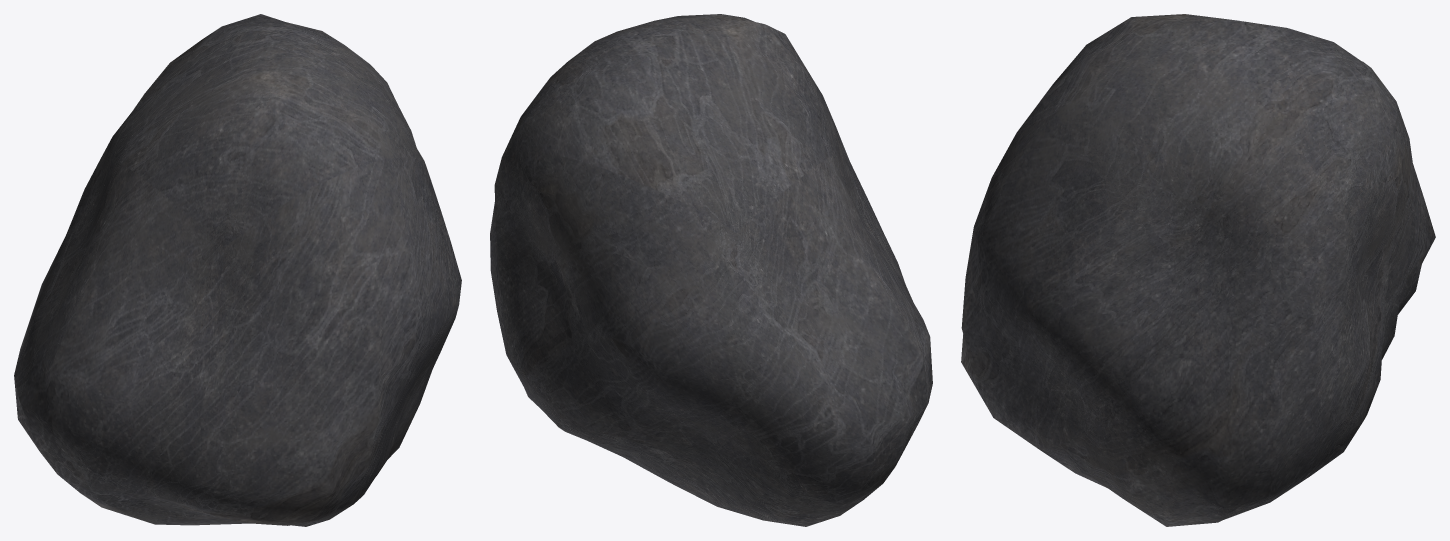
Rendered from Rock_Test.fbx.
The picture shows the model from 3 angles, left to right: view 1: azimuth 30°, elevation 25°; view 2: azimuth 150°, elevation 25°; view 3: azimuth 270°, elevation 25°; orthographic projection. The views are drawn at different scales.
Visible parts, largest first — view 1: Cube.001; view 2: Cube.001; view 3: Cube.001.
Boxes of the visible parts, x1,y1,x2,y2 form: Cube.001: [14, 14, 461, 526]; Cube.001: [490, 14, 932, 526]; Cube.001: [961, 14, 1435, 526].
Bounding box in the file's own units: 168 × 184 × 160.
1 material, 1 textured.
